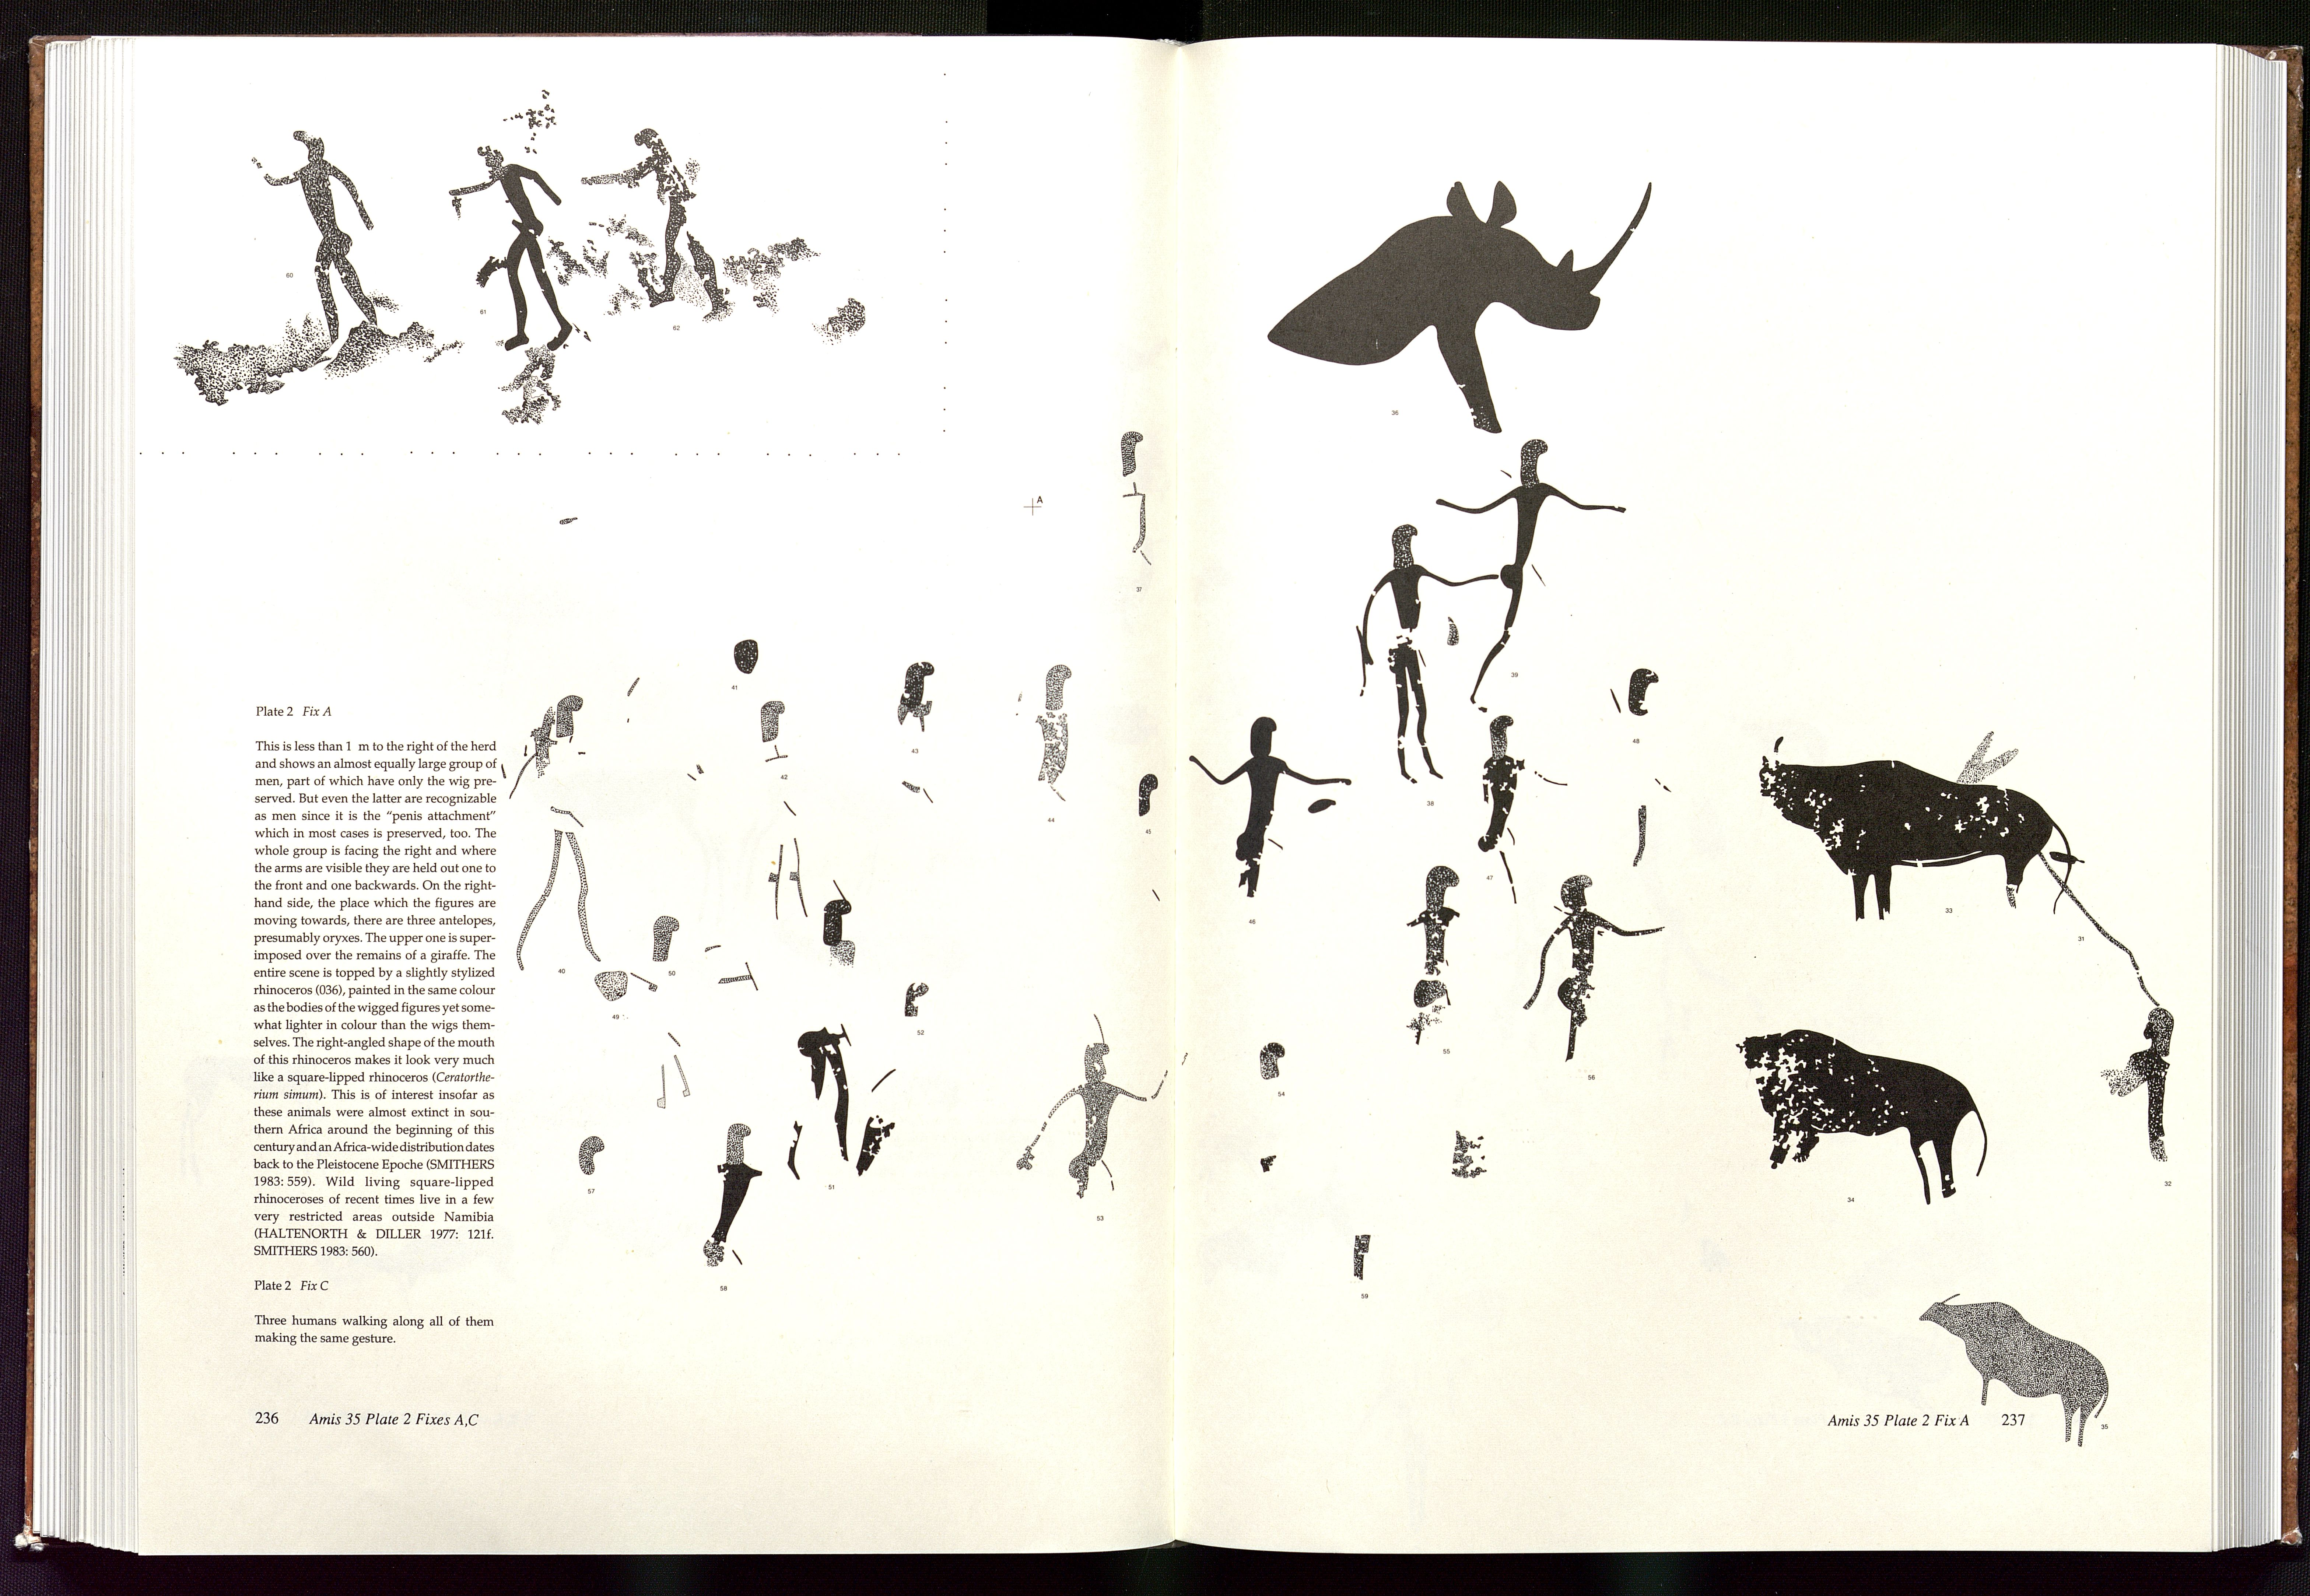animal: (1264, 165, 1664, 443), (1750, 716, 2109, 954), (1731, 1015, 1996, 1211), (1905, 1290, 2124, 1460)
human: (1433, 426, 1640, 743), (1352, 512, 1507, 787), (1013, 1000, 1200, 1214), (250, 109, 409, 350), (1185, 711, 1355, 927), (503, 681, 621, 971), (444, 138, 584, 362), (1519, 865, 1672, 1067), (611, 119, 729, 327), (1468, 708, 1583, 897), (1380, 853, 1478, 1052), (694, 1106, 792, 1290), (891, 642, 969, 828), (1102, 414, 1171, 600)
